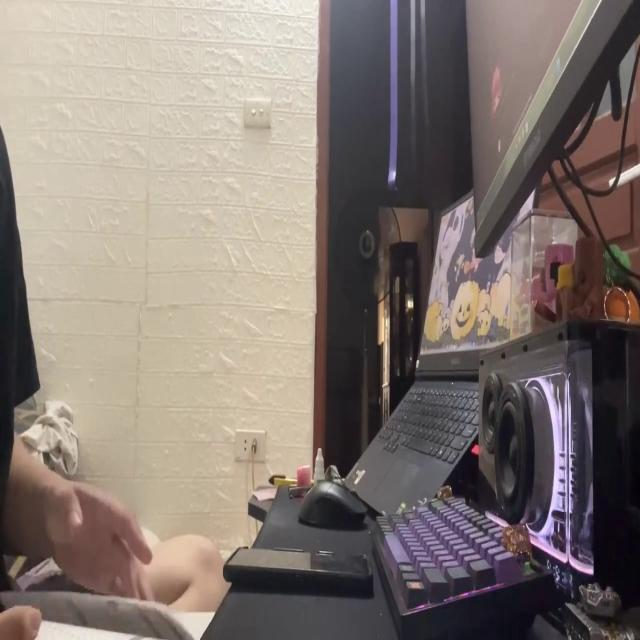book: (0, 575, 213, 640)
laptop: (342, 178, 543, 521), (463, 0, 640, 272)
phone: (221, 537, 374, 601)
student: (0, 121, 227, 640)
